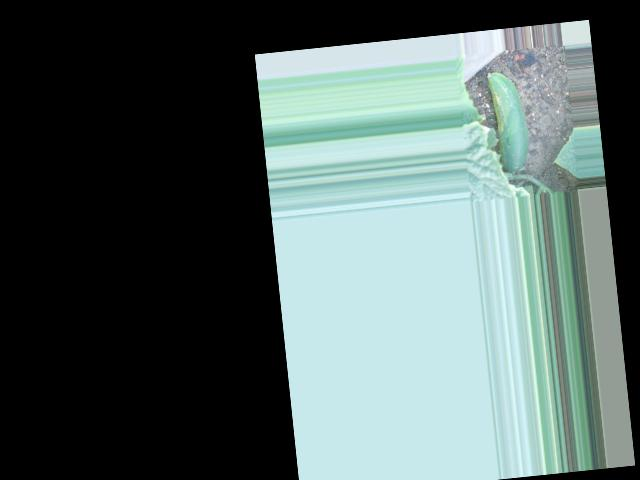cucumber: (486, 69, 531, 172)
